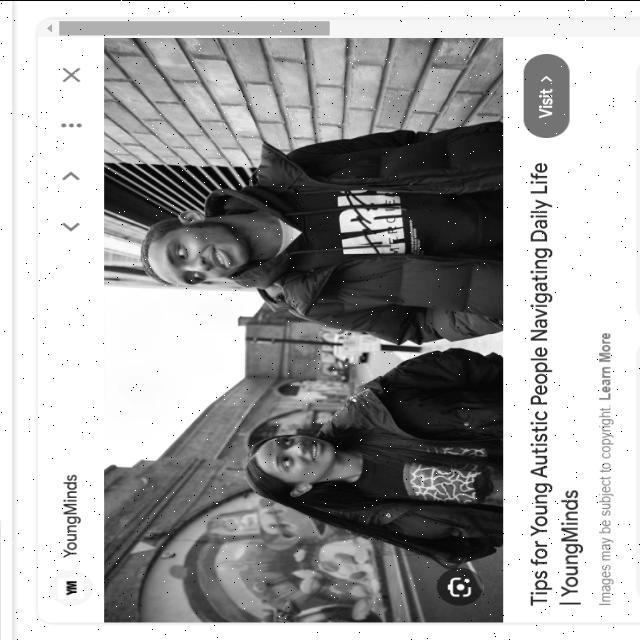face_no_mask: (155, 209, 255, 283), (258, 433, 338, 497)
